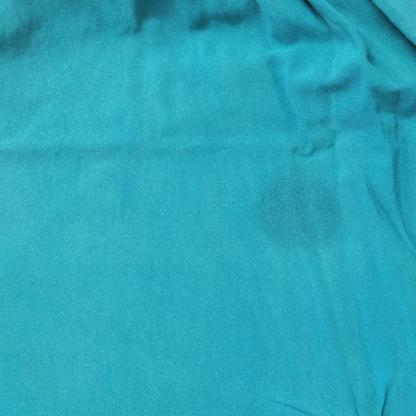spot: (249, 166, 361, 257)
